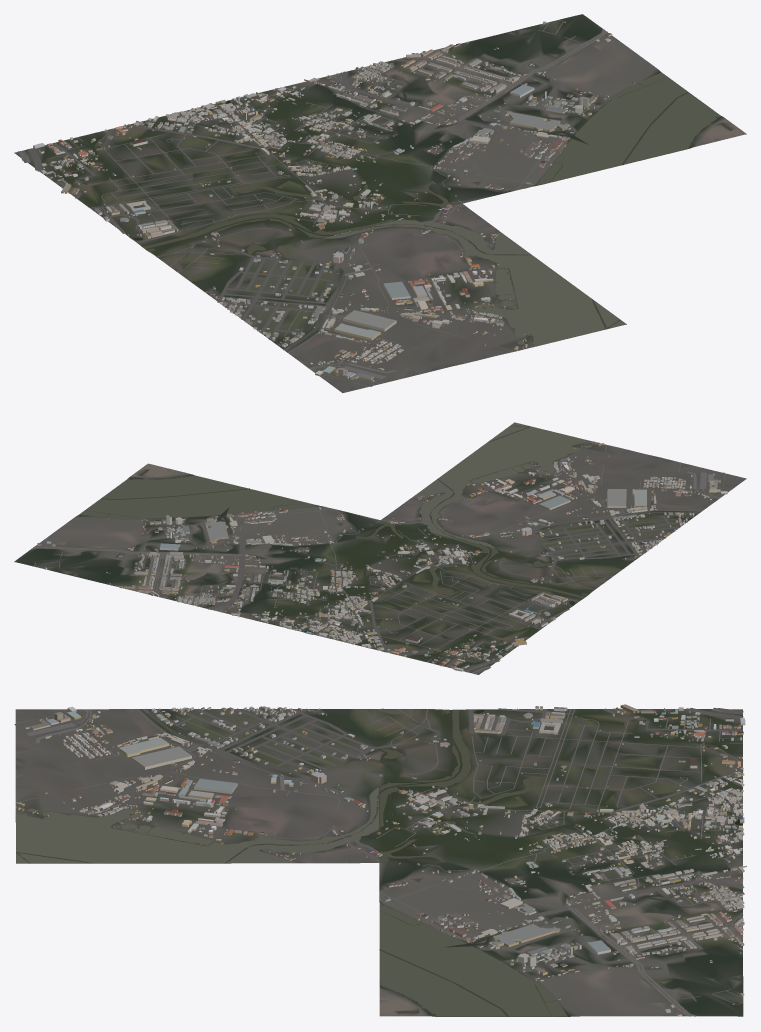
3 renders of one model, top to bottom at view 1: azimuth 30°, elevation 25°; view 2: azimuth 150°, elevation 25°; view 3: azimuth 270°, elevation 25°, orthographic. The views are drawn at different scales.
Visible parts, largest first — view 1: ground, buildings, water, roads; view 2: ground, buildings, water, roads; view 3: ground, buildings, water, roads.
Boxes of the visible parts, x1,y1,x2,y2 form: ground: (14,14,746,392); buildings: (33,21,634,381); water: (81,72,720,348); roads: (18,20,607,386); ground: (14,422,746,674); buildings: (34,441,727,671); water: (79,422,596,652); roads: (31,444,726,674); ground: (15,709,743,1016); buildings: (15,704,746,1016); water: (16,709,742,1016); roads: (14,707,744,1016).
Size of the model in its own units: 2833 by 46.35 by 2823.
